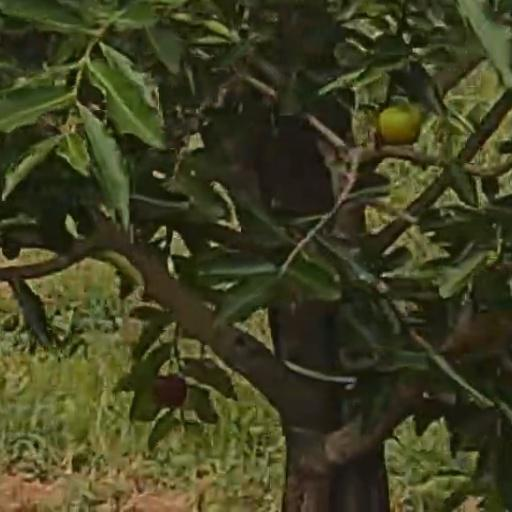acerola_verde: (379, 104, 419, 144)
